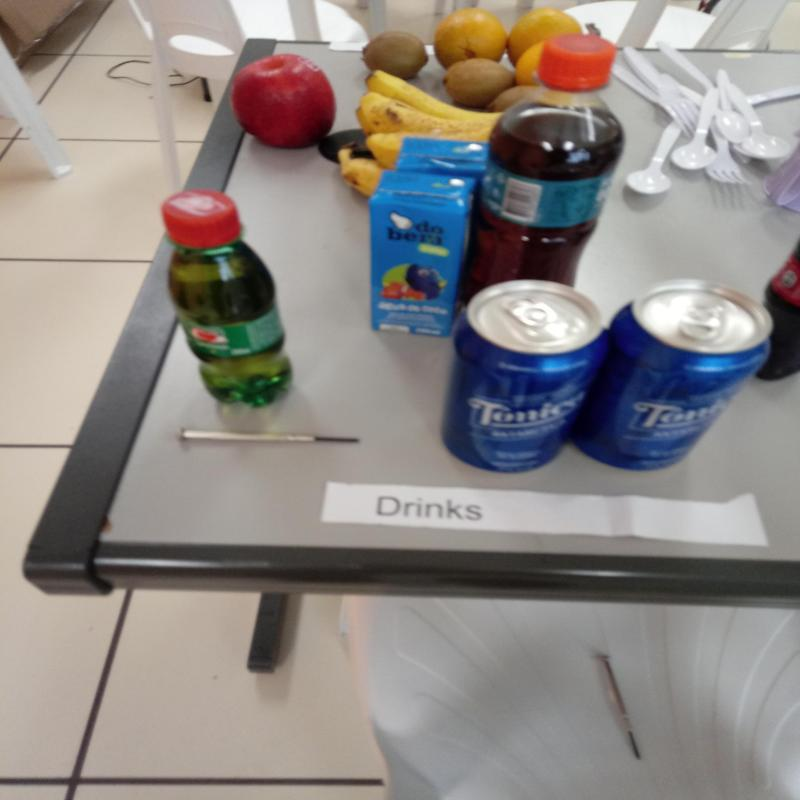Apple: (230, 54, 339, 148)
Banana: (357, 66, 506, 163)
CoconutWater: (361, 170, 467, 343), (381, 136, 488, 184)
Guarana: (162, 188, 296, 416)
IceTea: (473, 35, 625, 312)
Kiwi: (361, 33, 428, 82)
Orange: (510, 11, 584, 77), (436, 8, 510, 69)
Tonic: (573, 275, 776, 475), (440, 280, 606, 470)
